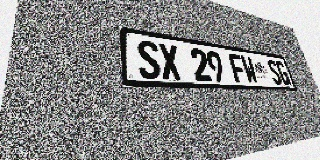2: (190, 47, 212, 82)
9: (205, 50, 227, 82)
F: (228, 53, 248, 83)
G: (275, 61, 291, 85)
S: (136, 39, 162, 79), (266, 59, 283, 85)
W: (240, 55, 259, 84)
X: (158, 43, 182, 80)
